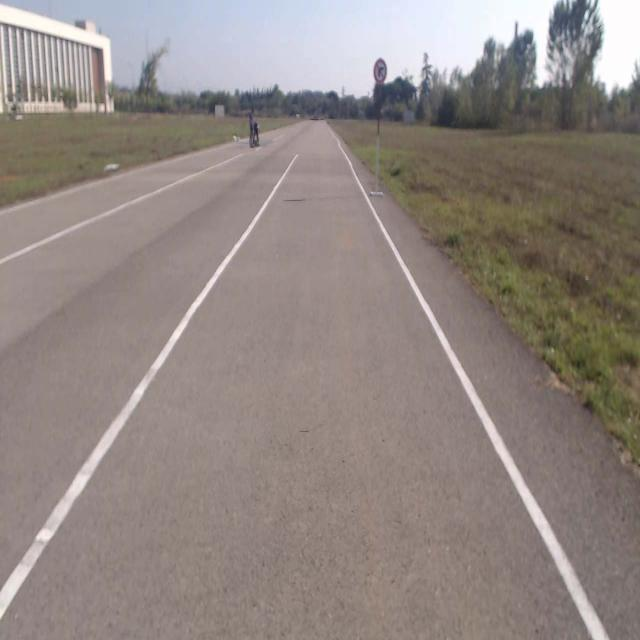sagadonulmez: (374, 58, 386, 82)
